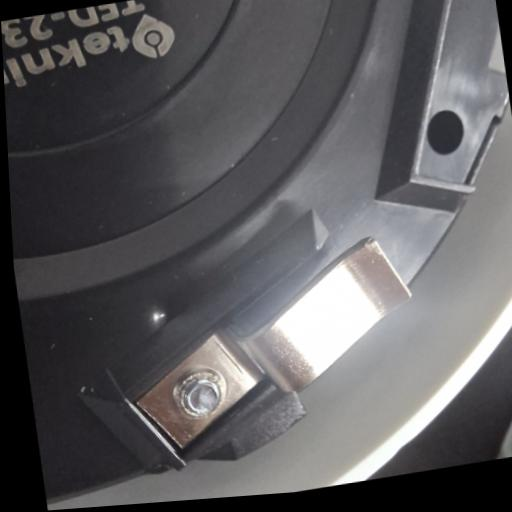yaysiz: (114, 205, 441, 460)
